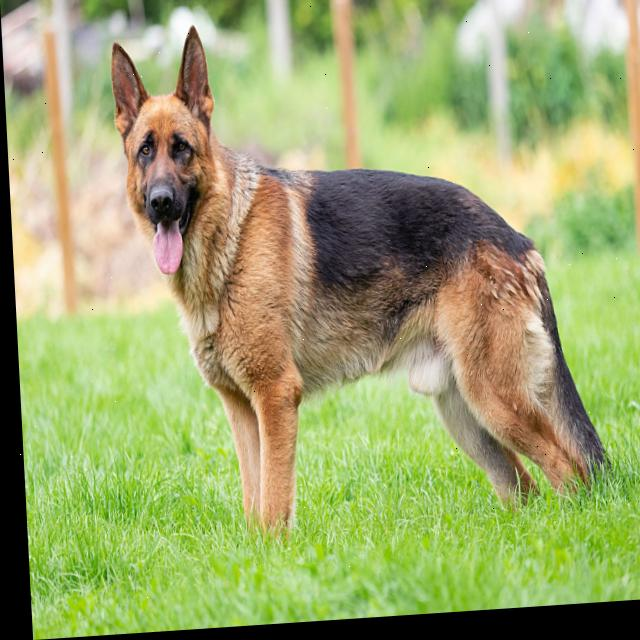GERMAN_SHEPHERD: (100, 0, 616, 585)
